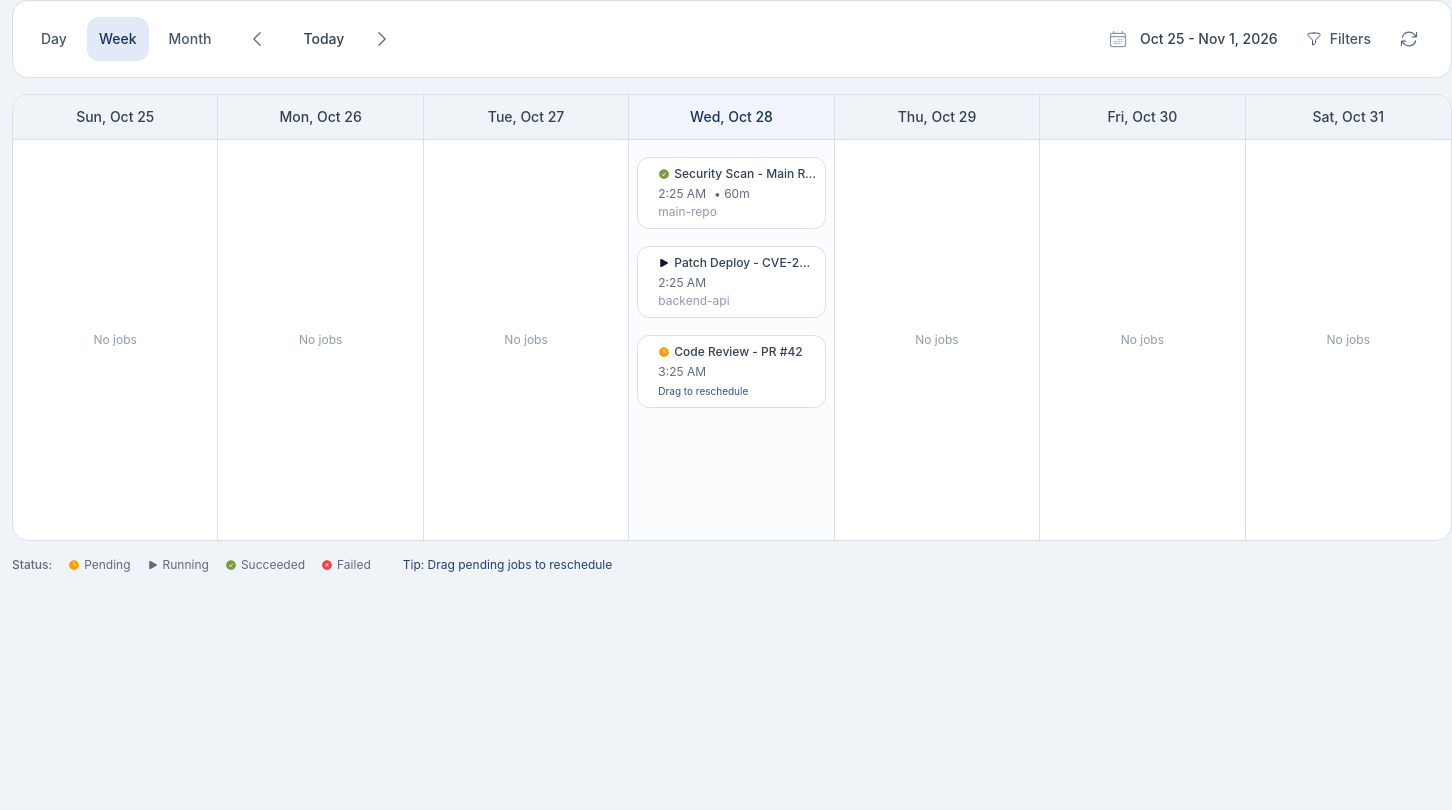
Test case: JobTimelineView › Filters › toggles filter panel when Filters button clicked
Expected: the text "Filters" is shown, [1330,29,1371,49]
Click Filters button
Step 1. Click the button "Filters" → [1338, 39], box [1294,17,1383,61]
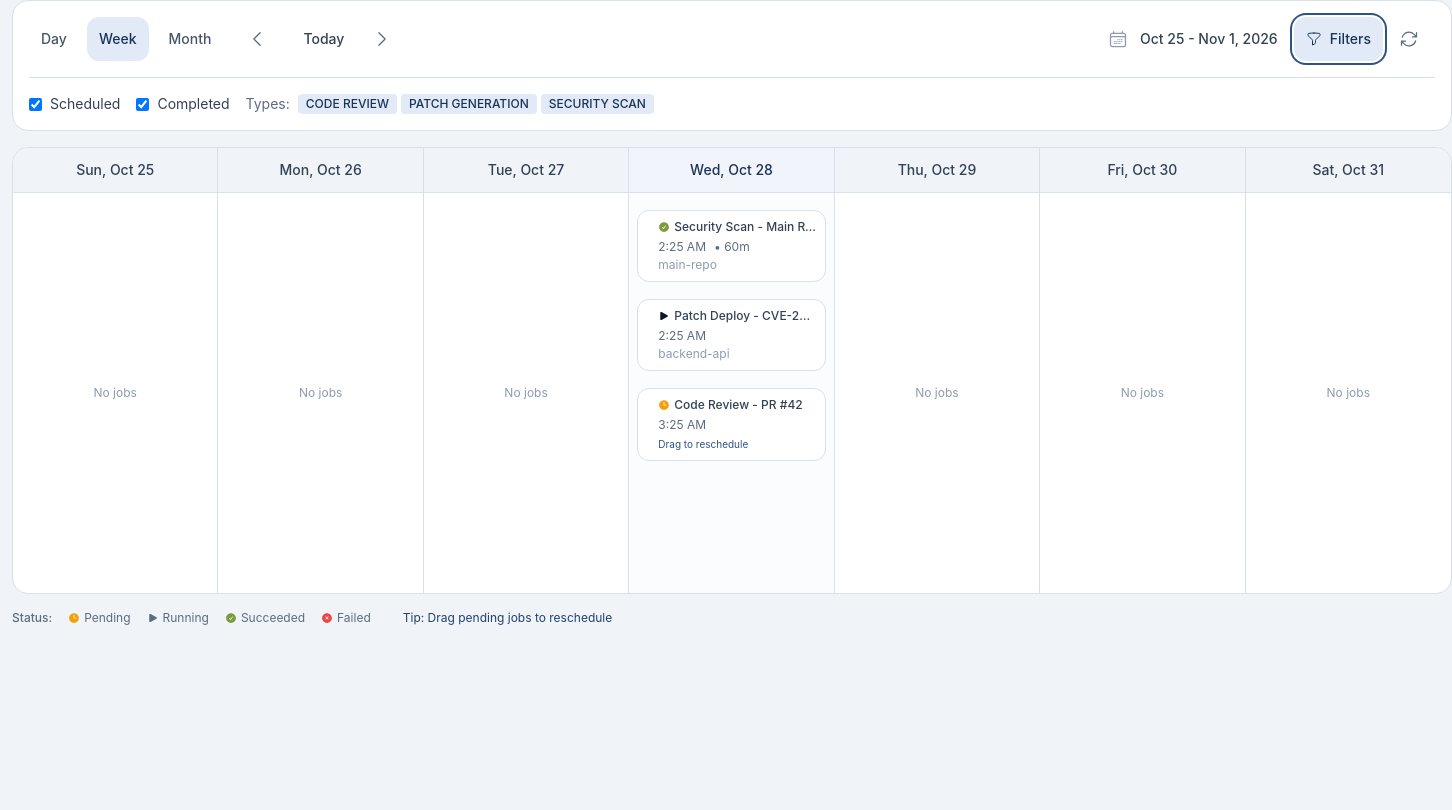
Now the text "Scheduled" is shown, box [50,94,120,114]
Now the text "Completed" is shown, box [157,94,230,114]
